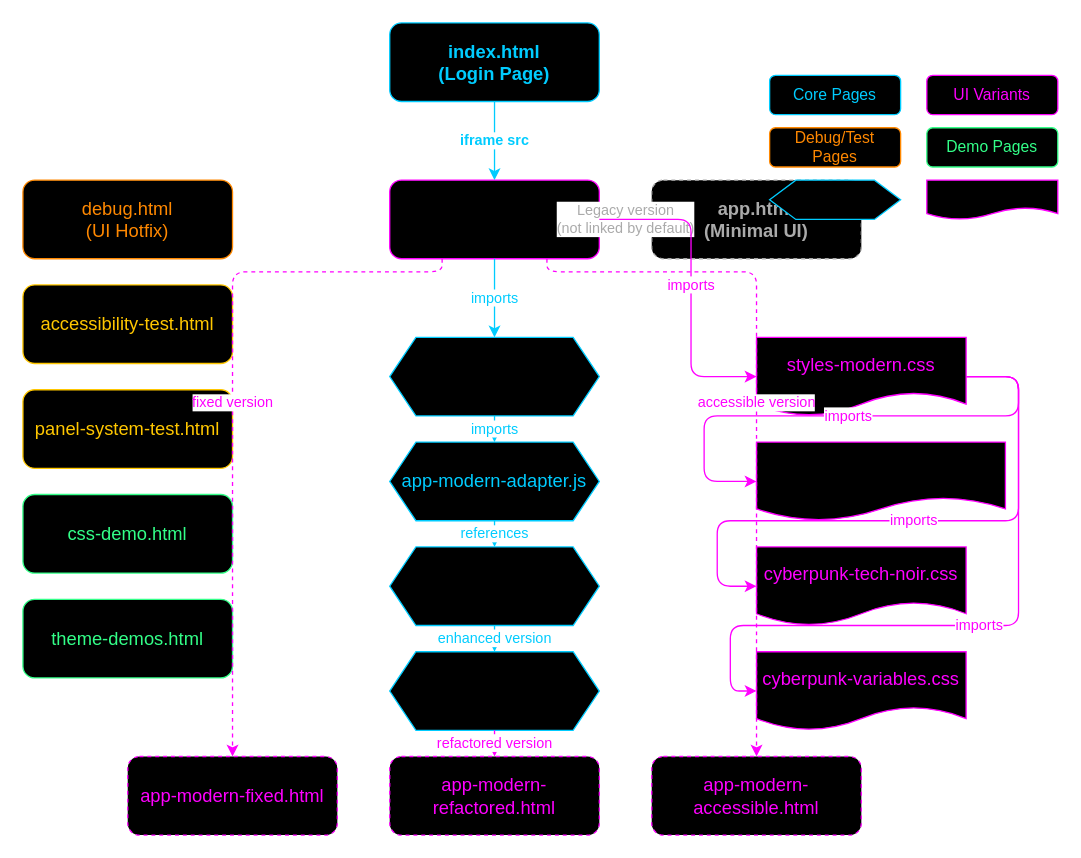
The diagram is 1081 pixels wide and 858 high, and some of its shapes have lost their labels. Each missing label, with the centre of its shape:
"app-modern.html (Modern UI)" belongs at pixel 493 219.
"app-modern.js" belongs at pixel 493 376.
"CSS Files" belongs at pixel 992 199.
"cyberpunk-neon-synthwave.css" belongs at pixel 880 481.
"JavaScript Files" belongs at pixel 834 199.
"panel-implementations-fixed.js" belongs at pixel 493 690.
"panel-implementations.js" belongs at pixel 493 586.
